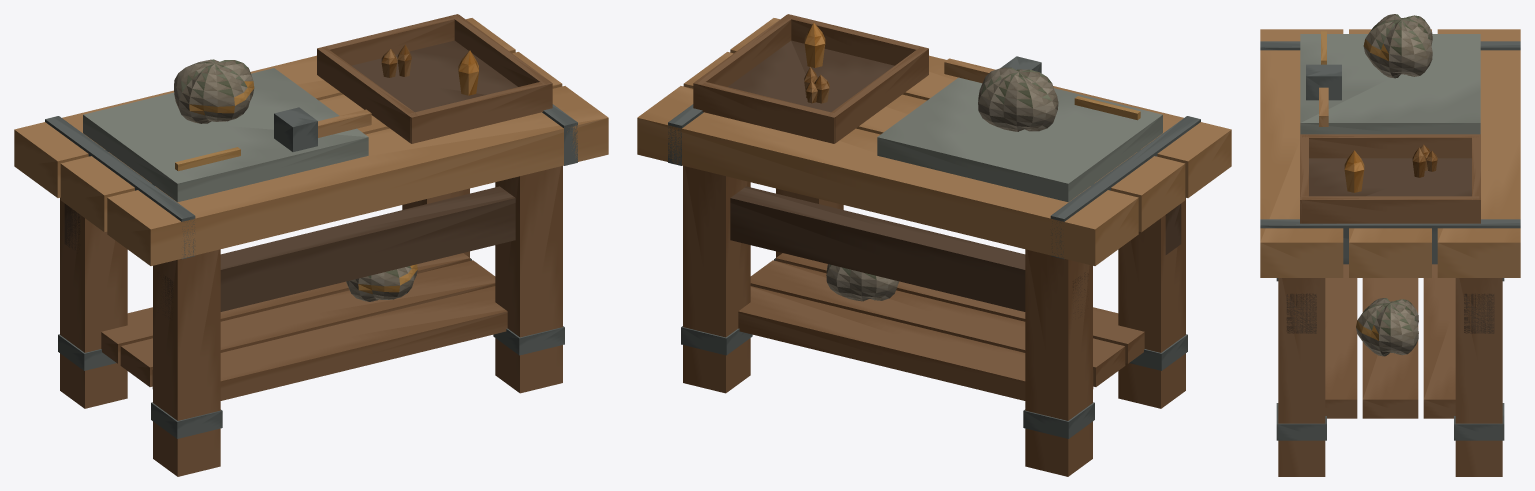
Rendered from workstation.obj.
3 views of the same model, side by side, from view 1: azimuth 30°, elevation 25°; view 2: azimuth 150°, elevation 25°; view 3: azimuth 270°, elevation 25° (orthographic). The views are drawn at different scales.
Bounding box in the file's own units: 1.82 × 1.3 × 0.94.
1 material, 1 textured.
